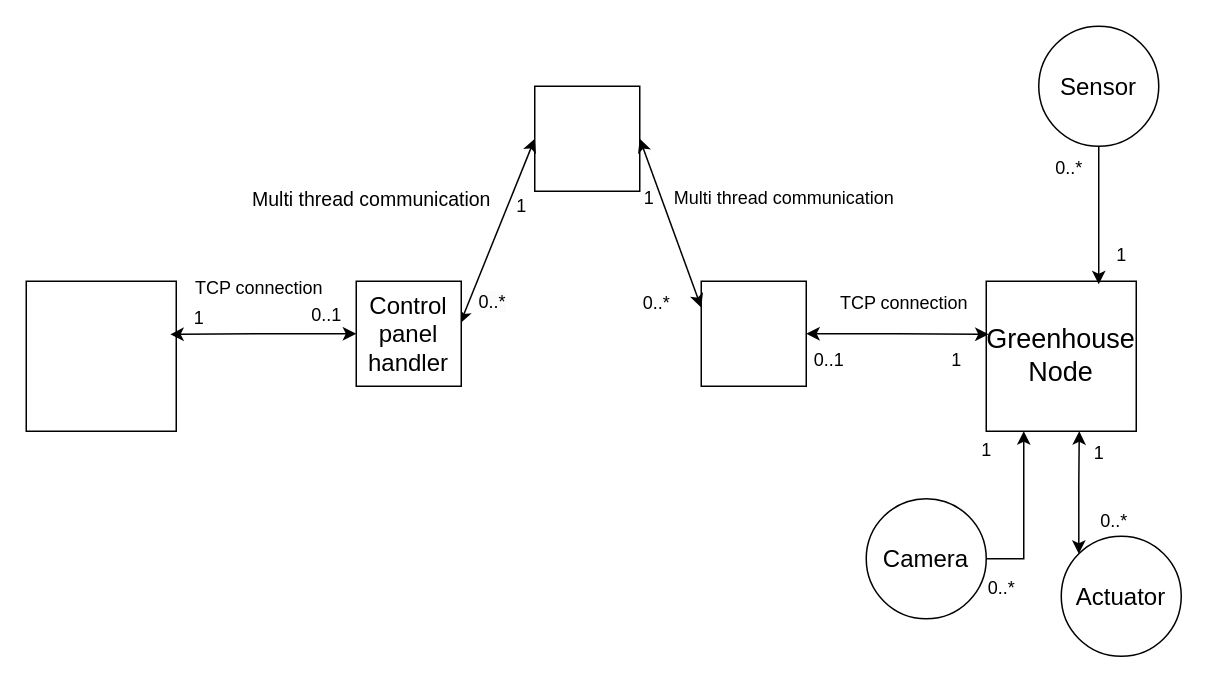
Some shapes in this 1208 by 683 pixel diagram are drawn without their labels. Here are the shapes that lost their labels. From the top down, the centre of each, then its label:
[586,138]: Server
[753,333]: Greenhouse handler
[100,355]: Control panel
